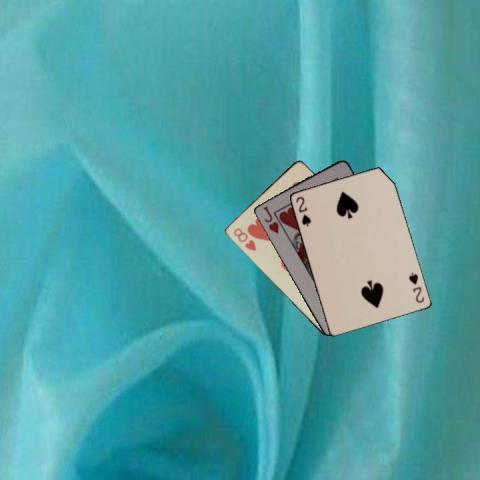2s: (406, 270, 426, 304), (293, 193, 312, 228)
8h: (230, 225, 257, 253)
Jh: (260, 204, 280, 236)
